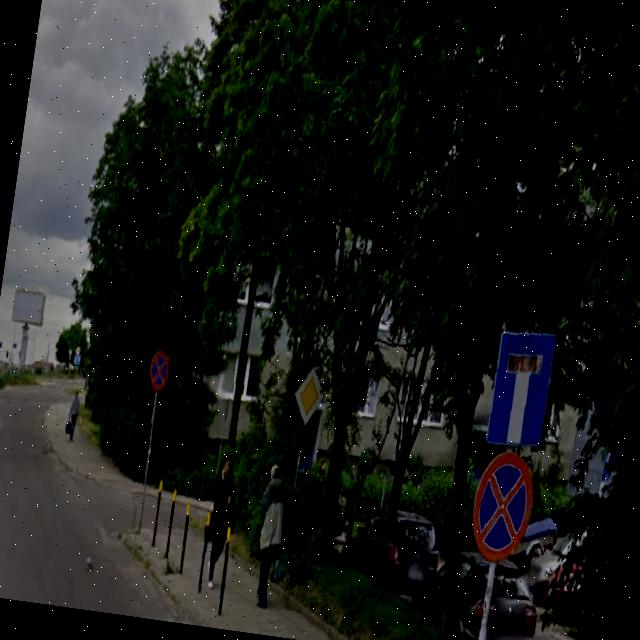Droga z pierwszenstwem: (291, 364, 324, 429)
Zakaz zatrzymywania sie: (468, 439, 538, 564), (146, 345, 172, 393)
